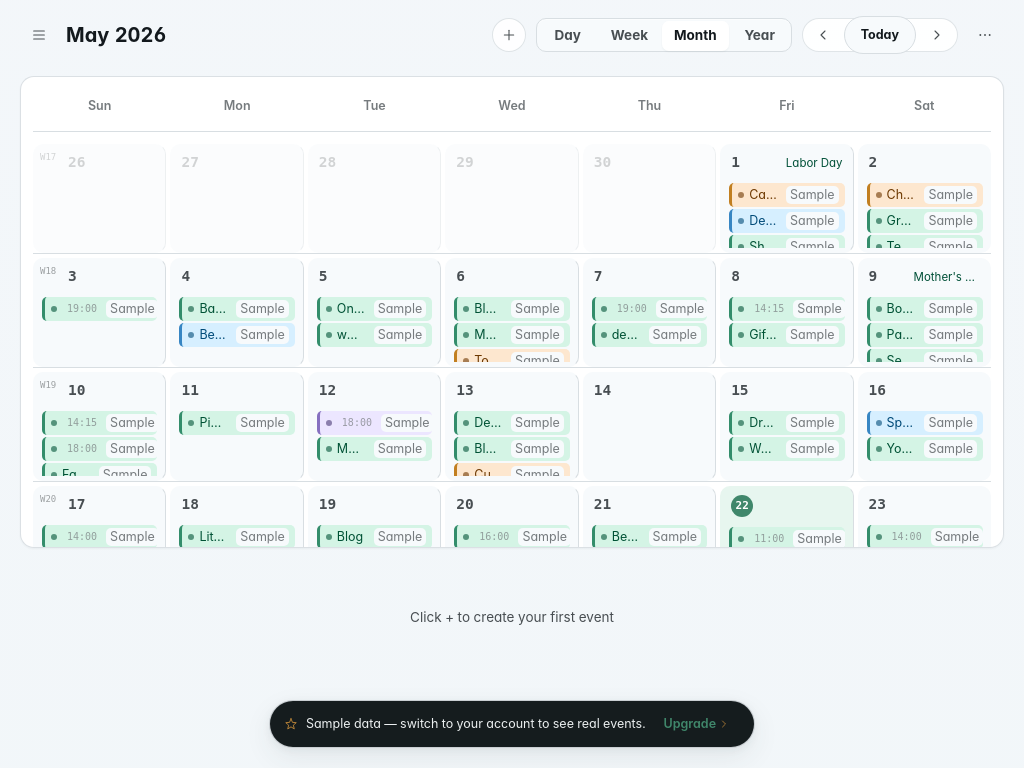
Scenario: CalendarModule nav › AC-NAV-2: < → April 2026
The width and height of the screenshot is (1024, 768).
Step 1. Click the button with test id "cal-prev-month" → {"x": 823, "y": 35}, box [806, 18, 840, 52]
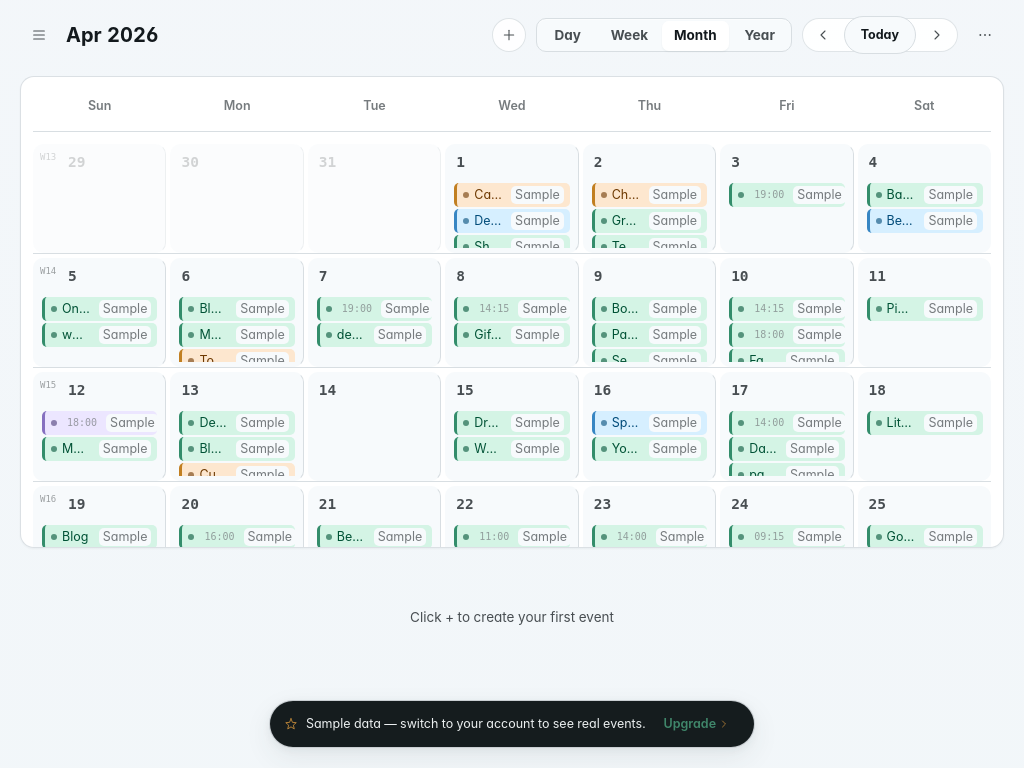
Expected: the heading reads "Apr 2026", [66, 22, 159, 46]
